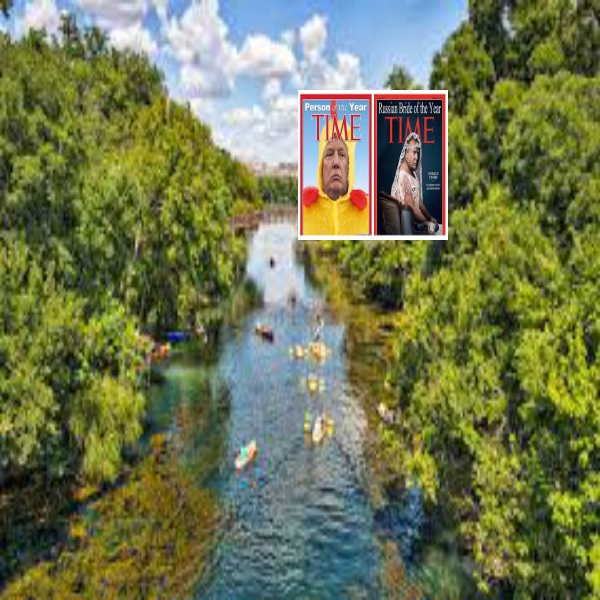time_cover: (296, 97, 437, 250), (296, 84, 369, 250)
